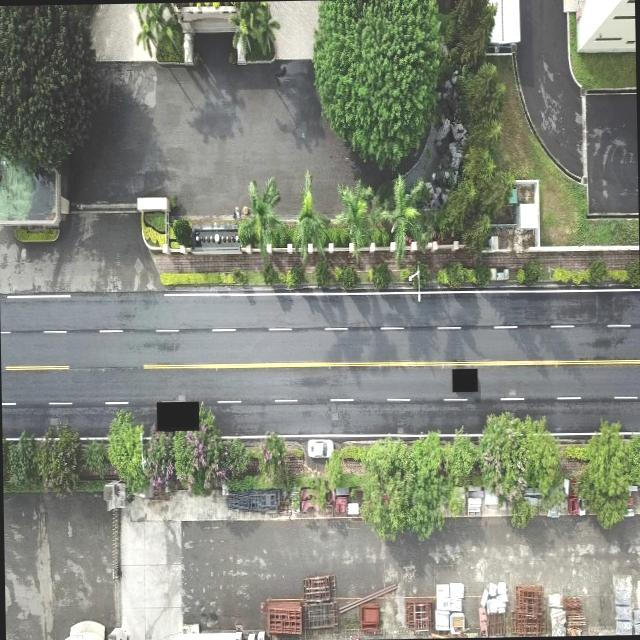car: (306, 434, 332, 462)
